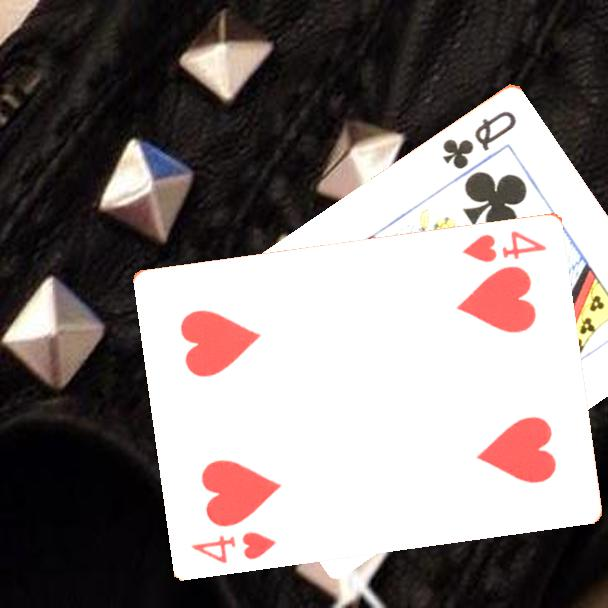c12: (439, 106, 520, 172)
h04: (188, 527, 280, 566), (459, 226, 550, 265)
